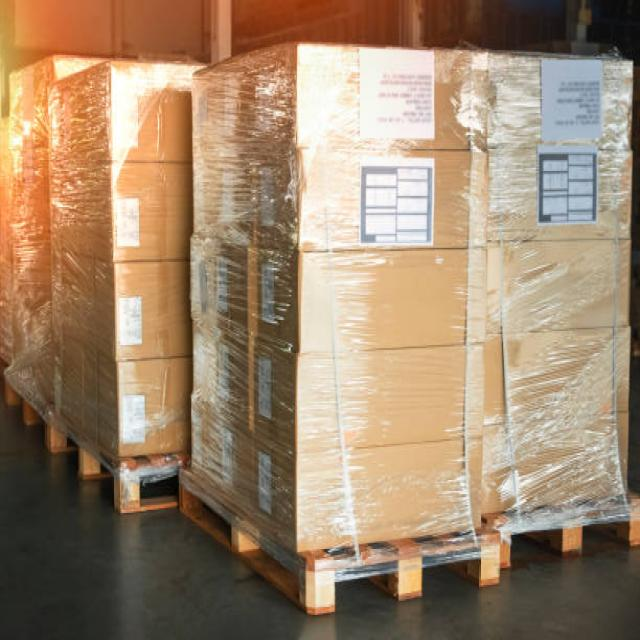Wooden-Pallets: (169, 469, 503, 636), (42, 400, 183, 520), (490, 496, 640, 573)
